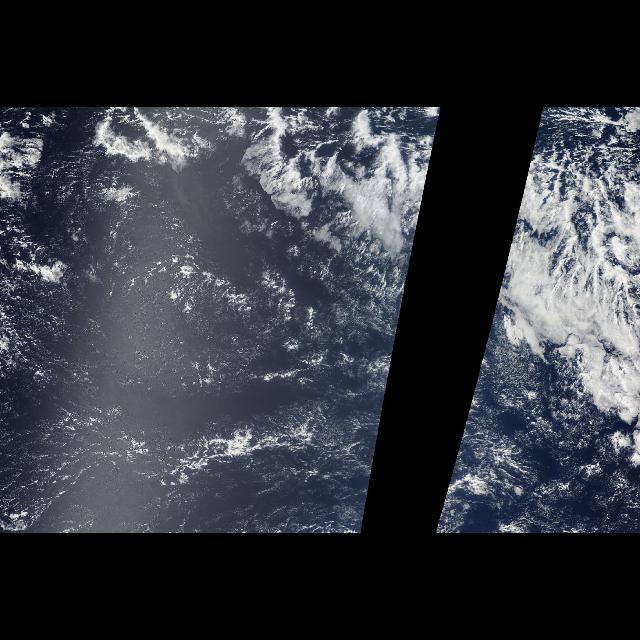Fish: (220, 119, 440, 414), (466, 119, 640, 414)
Sugar: (1, 161, 406, 531), (434, 288, 512, 530)
